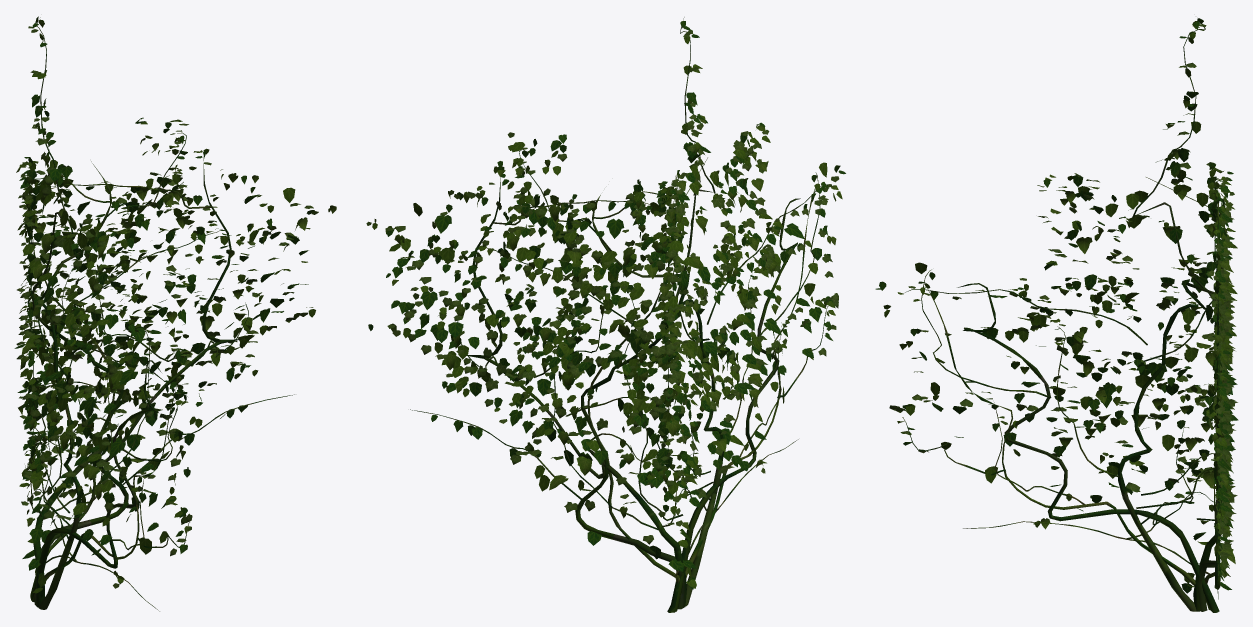
Rendered from SM_IvyCornerOut2.fbx.
3 renders of one model, left to right at view 1: azimuth 30°, elevation 25°; view 2: azimuth 150°, elevation 25°; view 3: azimuth 270°, elevation 25°, orthographic.
Parts seen in each view (by area): view 1: SM_IvyCornerOut2_LOD0; view 2: SM_IvyCornerOut2_LOD0; view 3: SM_IvyCornerOut2_LOD0.
Part boxes in pixels (x1,y1,x2,y2): SM_IvyCornerOut2_LOD0: (14,16,336,611); SM_IvyCornerOut2_LOD0: (366,17,845,612); SM_IvyCornerOut2_LOD0: (875,18,1238,612).
Size of the model in its own units: 199 by 190 by 344.
